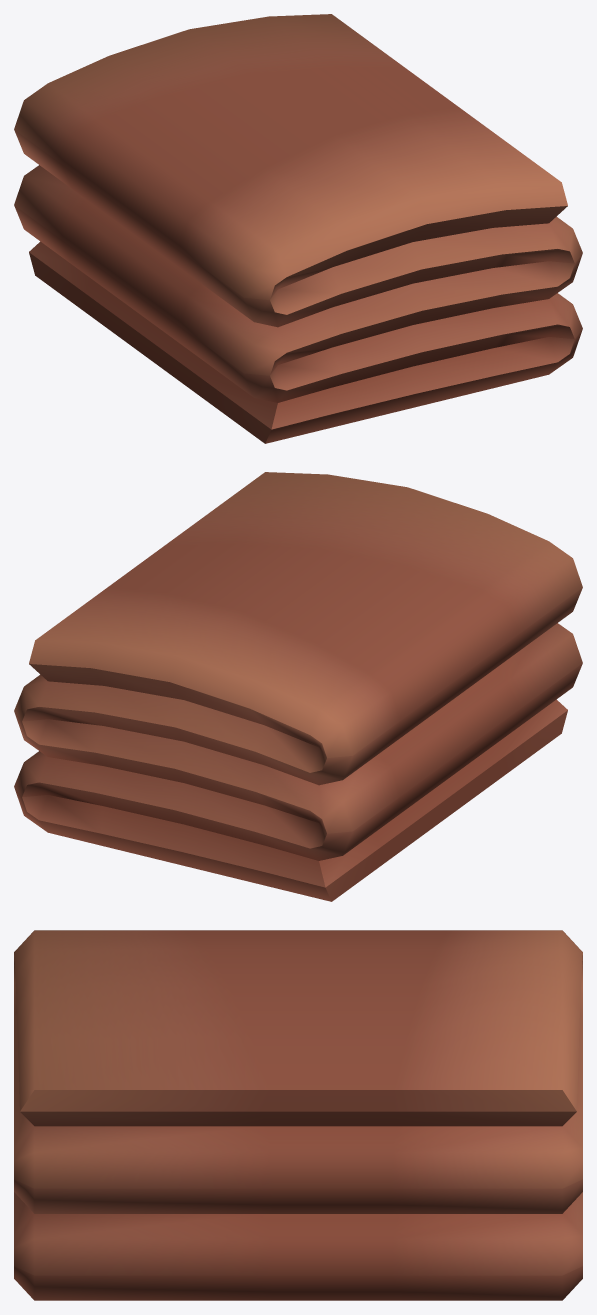
Rendered from textiles_a.glb.
3 renders of one model, top to bottom at view 1: azimuth 30°, elevation 25°; view 2: azimuth 150°, elevation 25°; view 3: azimuth 270°, elevation 25°, orthographic. The views are drawn at different scales.
Visible parts, largest first — view 1: Textiles_A; view 2: Textiles_A; view 3: Textiles_A.
Boxes of the visible parts, <box> form: Textiles_A: <box>14,14,582,443</box>; Textiles_A: <box>14,472,582,901</box>; Textiles_A: <box>14,930,582,1300</box>.
Bounding box in the file's own units: 0.45 × 0.2648 × 0.57.
Materials: 1 (1 with a texture image).
